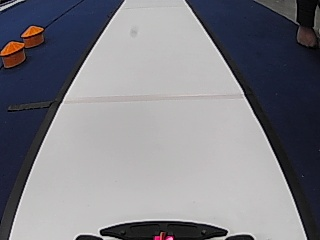granary: (0, 39, 26, 69), (20, 24, 44, 49)
